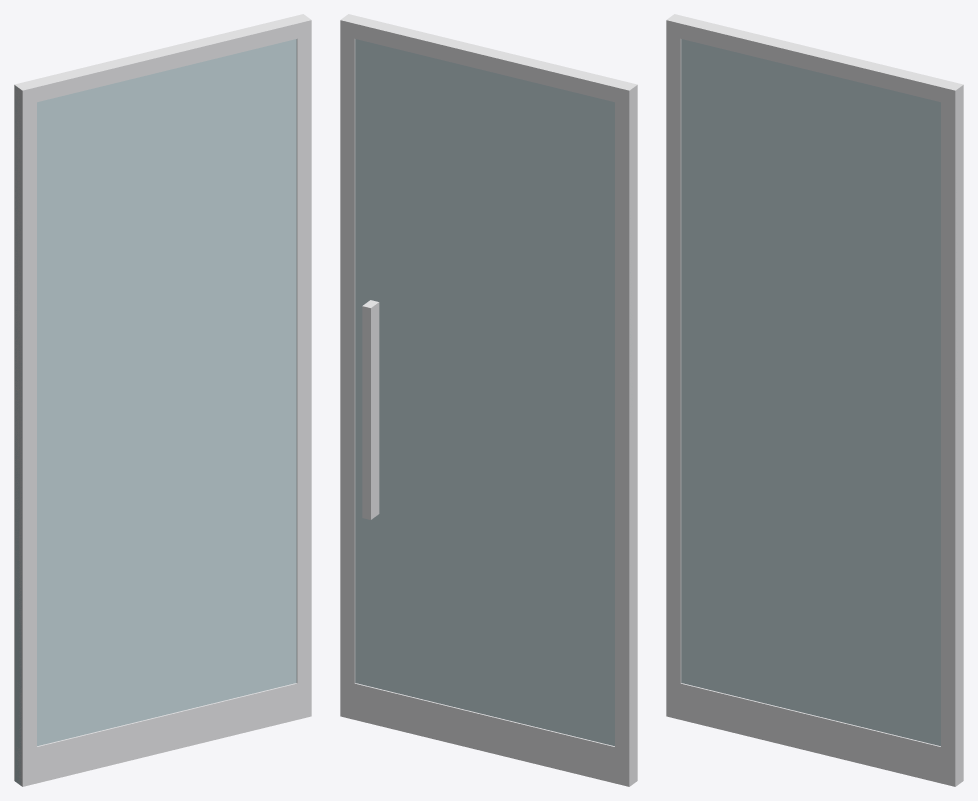
File: door_glass.glb
The picture shows the model from 3 angles, left to right: view 1: azimuth 30°, elevation 25°; view 2: azimuth 150°, elevation 25°; view 3: azimuth 330°, elevation 25°; orthographic projection.
Visible parts, largest first — view 1: door_glass; view 2: door_glass; view 3: door_glass.
Part boxes in pixels (x1,y1,x2,y2): door_glass: (14, 14, 311, 786); door_glass: (340, 14, 637, 786); door_glass: (666, 14, 963, 786).
Size of the model in its own units: 1 by 2.3 by 0.1.
